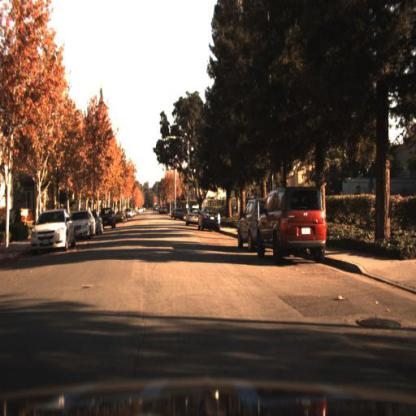car: (256, 186, 331, 264), (27, 201, 76, 258), (30, 205, 79, 253), (232, 201, 261, 252), (71, 207, 96, 243), (198, 207, 227, 238), (76, 204, 97, 245), (198, 208, 221, 233), (102, 202, 118, 233), (95, 207, 107, 235), (187, 207, 201, 230)
